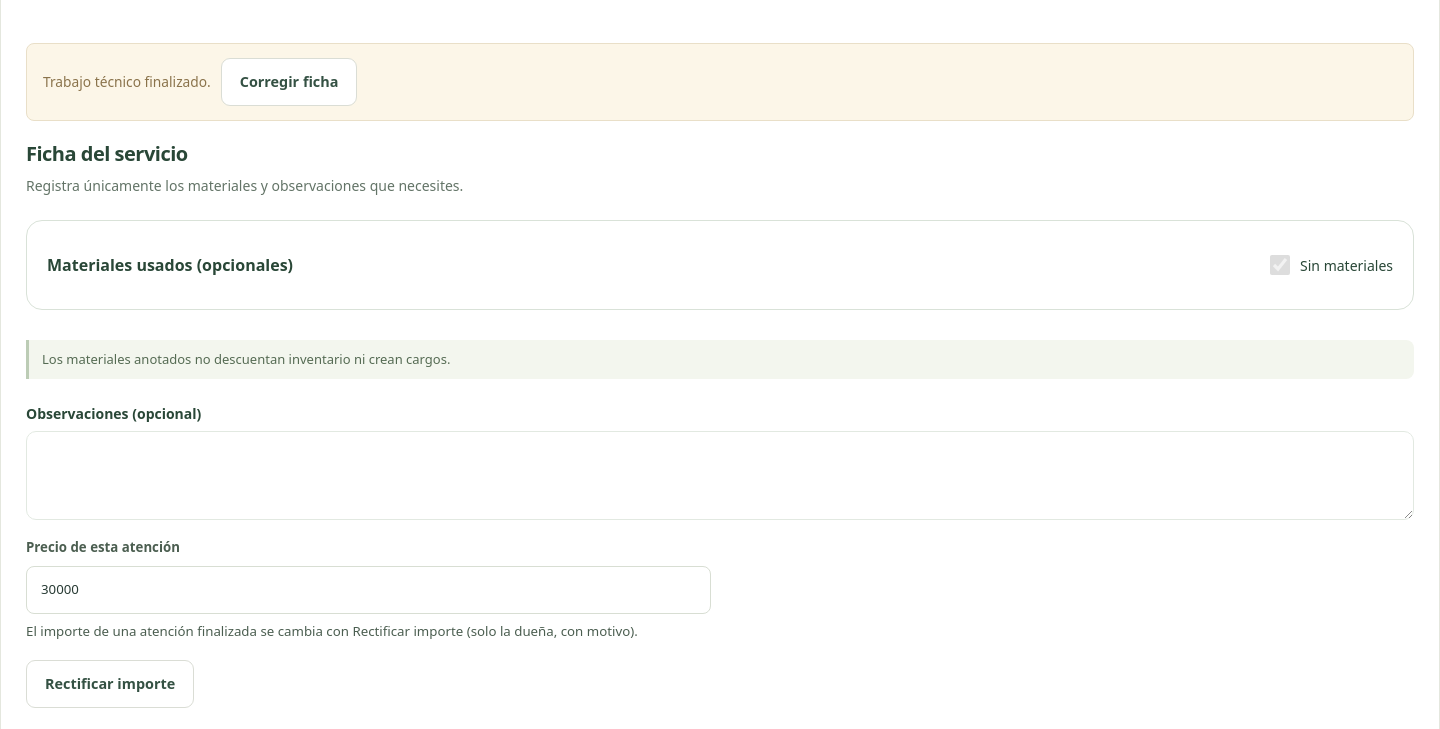
no cierra ni pierde cambios hechos mientras se confirma el guardado anterior
Check: the text box labelled "Observaciones (opcional)" is shown, box x1=26 y1=431 x2=1414 y2=520
Click the button "Corregir ficha". click: (289, 82)
box: x1=221 y1=58 x2=357 y2=106
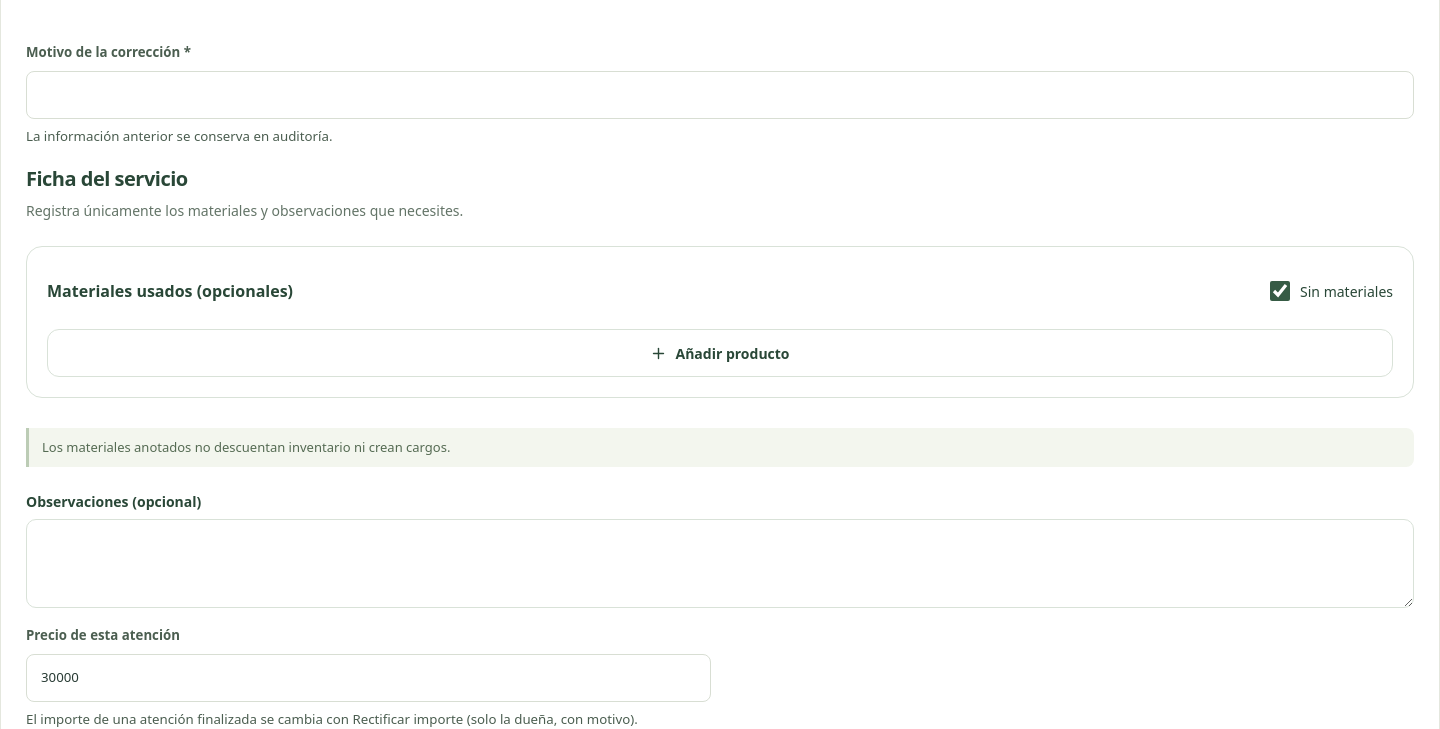
Type "Ajustar observaciones" into the field labelled "Motivo de la corrección". click: (720, 94)
box: x1=26 y1=70 x2=1414 y2=118
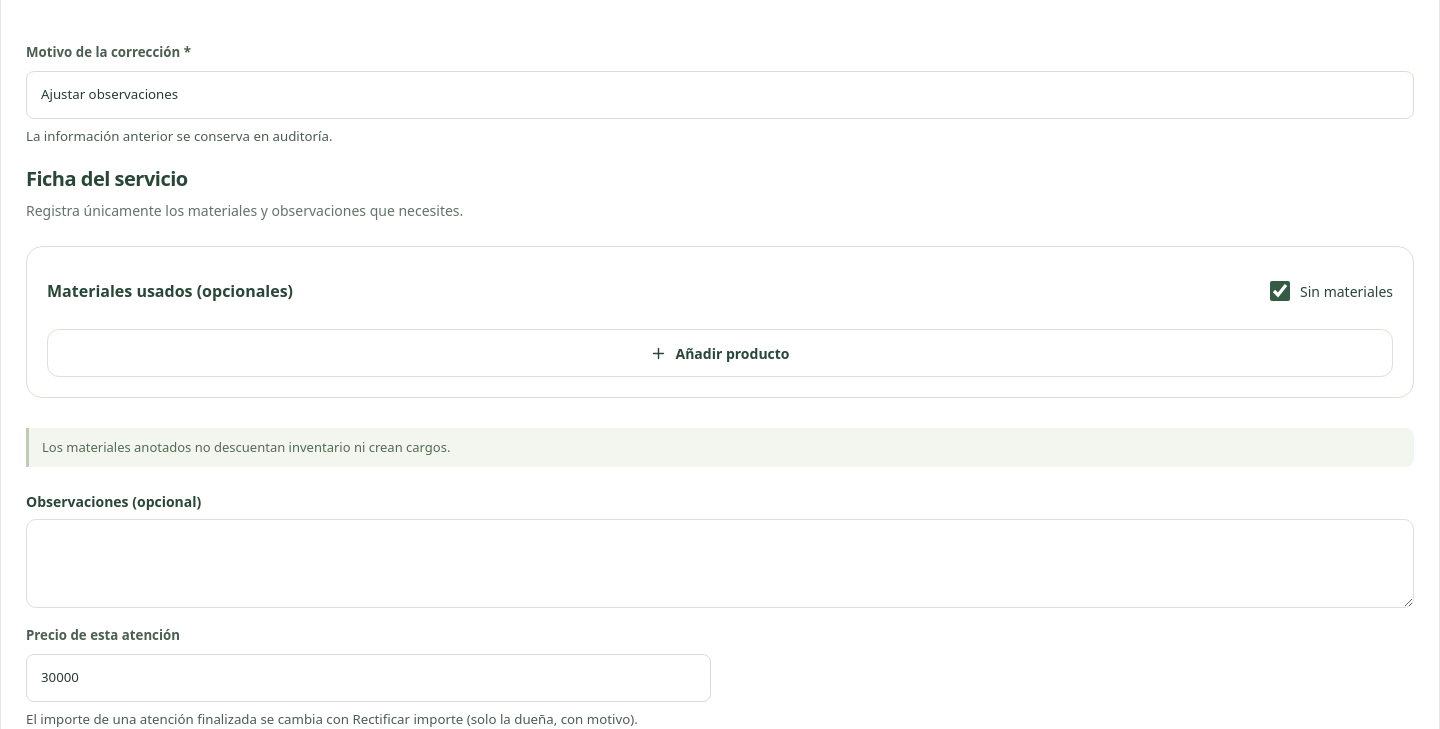
Type "Corrección guardada" into the text box labelled "Observaciones (opcional)". click: (720, 563)
box: x1=26 y1=519 x2=1414 y2=608
(page scrolled)
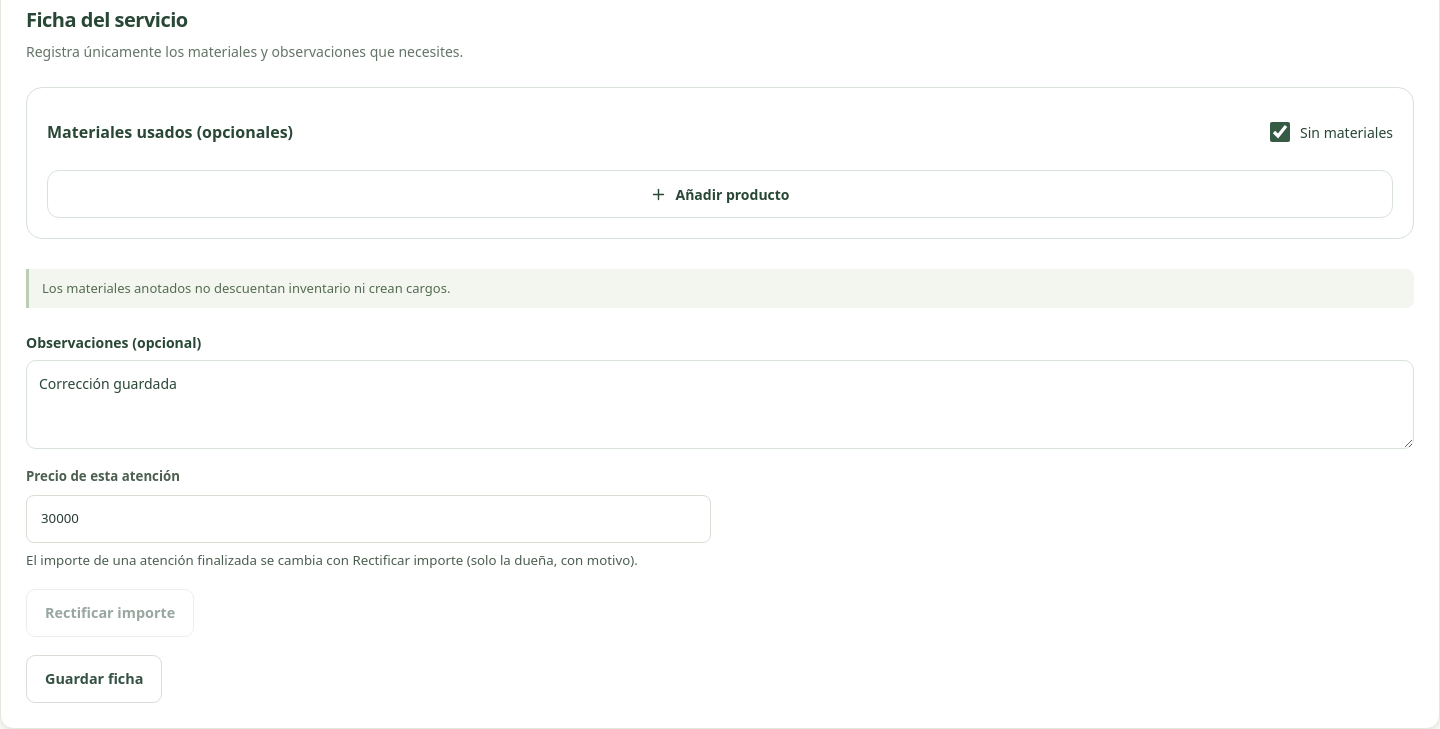
Click the button "Guardar ficha". click: (94, 679)
box: x1=26 y1=655 x2=162 y2=703
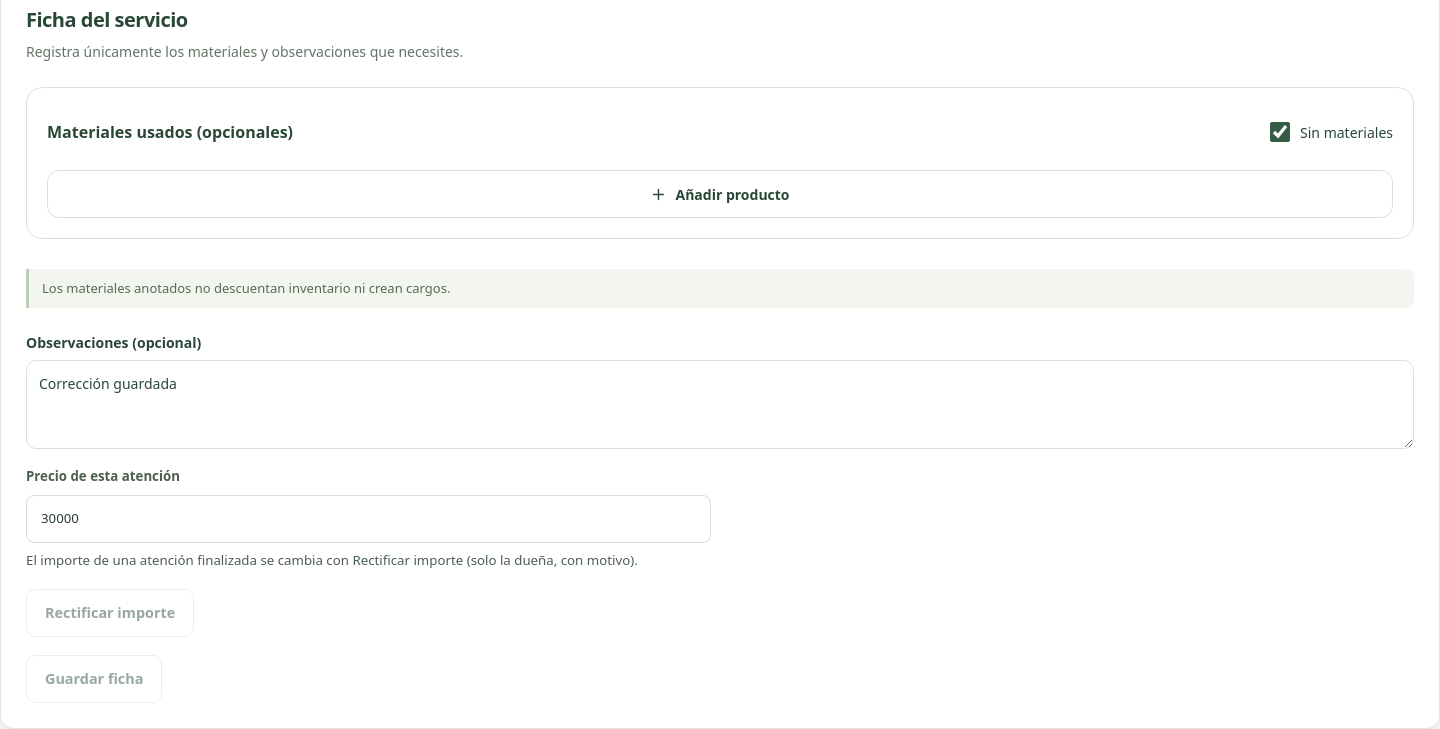
Replace the text in the text box labelled "Observaciones (opcional)" with "Cambio posterior". click: (720, 404)
box: x1=26 y1=360 x2=1414 y2=449
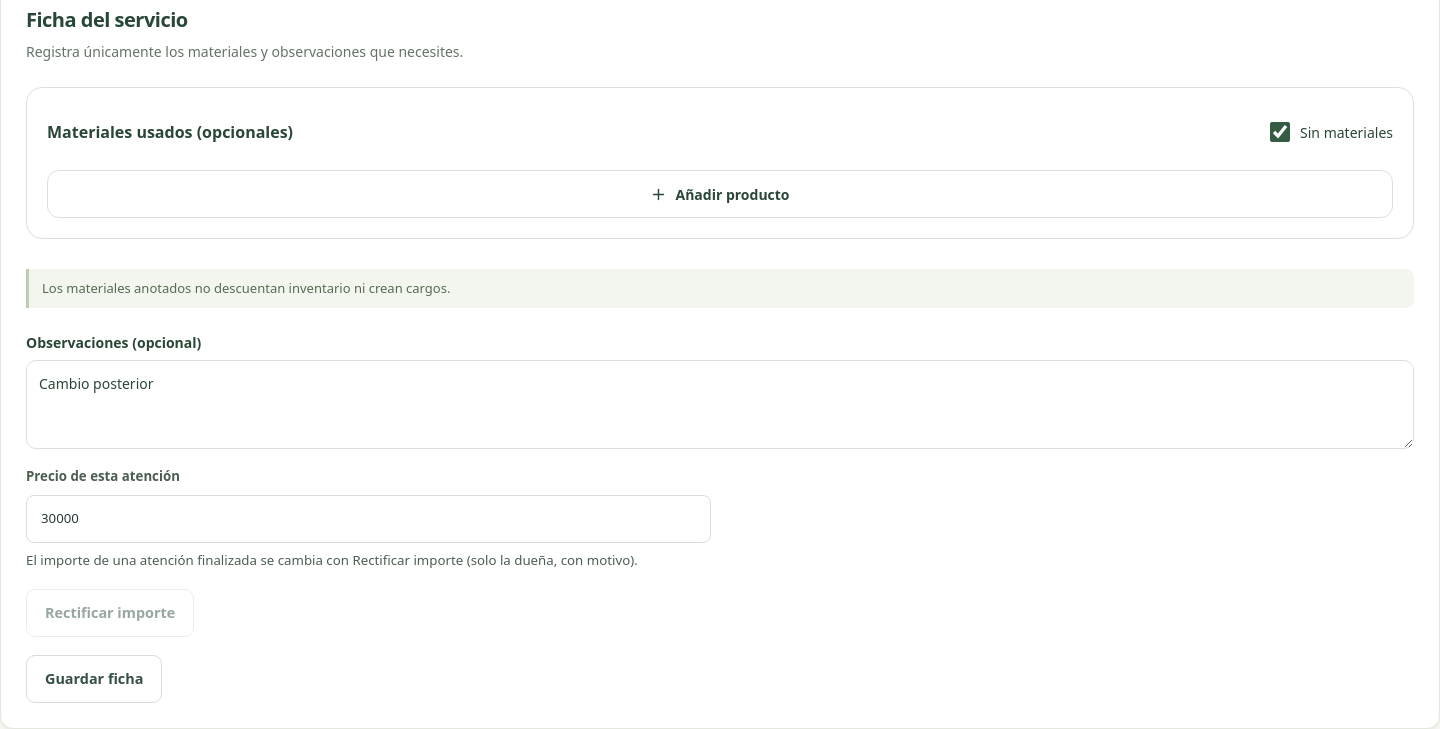
Check: the button "Corregir ficha" is not shown
Check: the text box labelled "Observaciones (opcional)" is enabled, box x1=26 y1=360 x2=1414 y2=449
Check: the button "Guardar ficha" is enabled
Click the button "Guardar ficha". click: (94, 679)
box: x1=26 y1=655 x2=162 y2=703
(page scrolled)
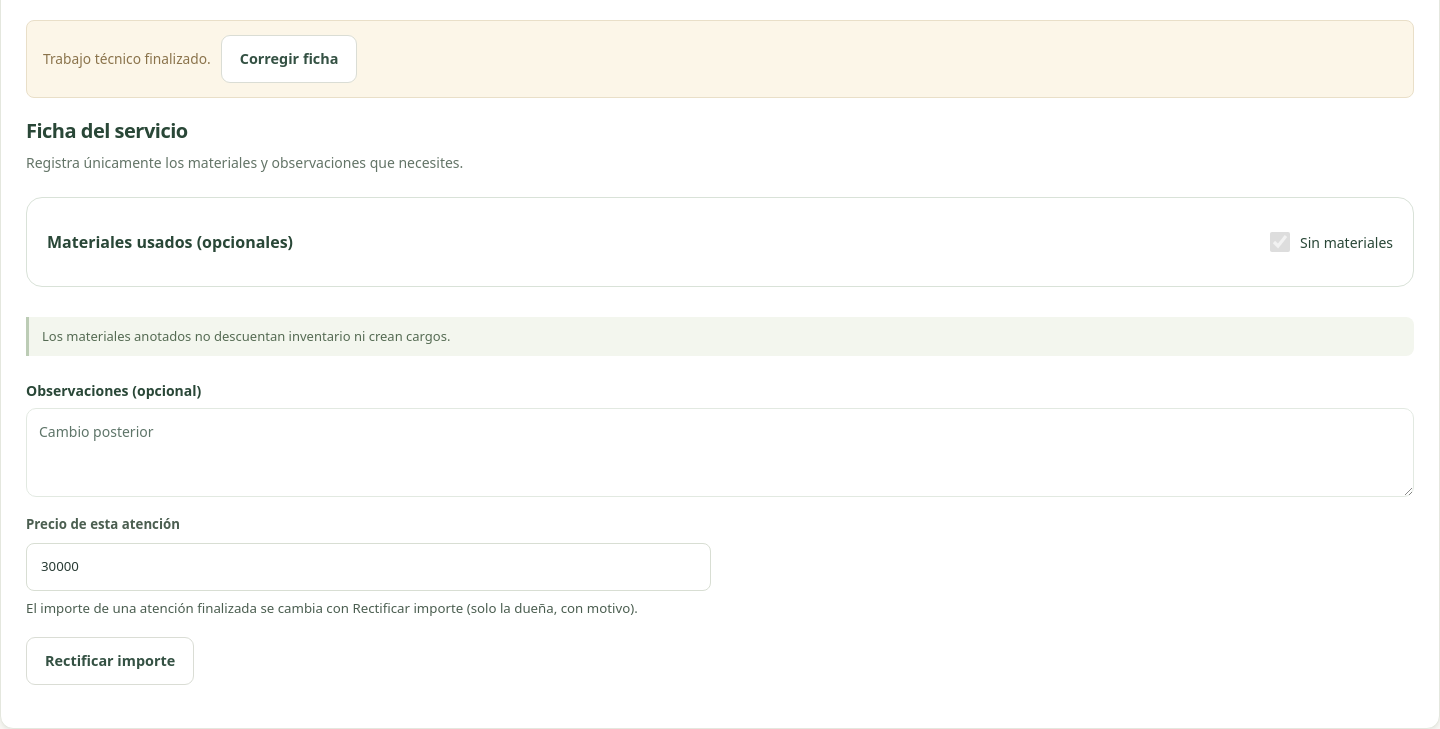
Check: the button "Corregir ficha" is shown, box x1=221 y1=35 x2=357 y2=83
